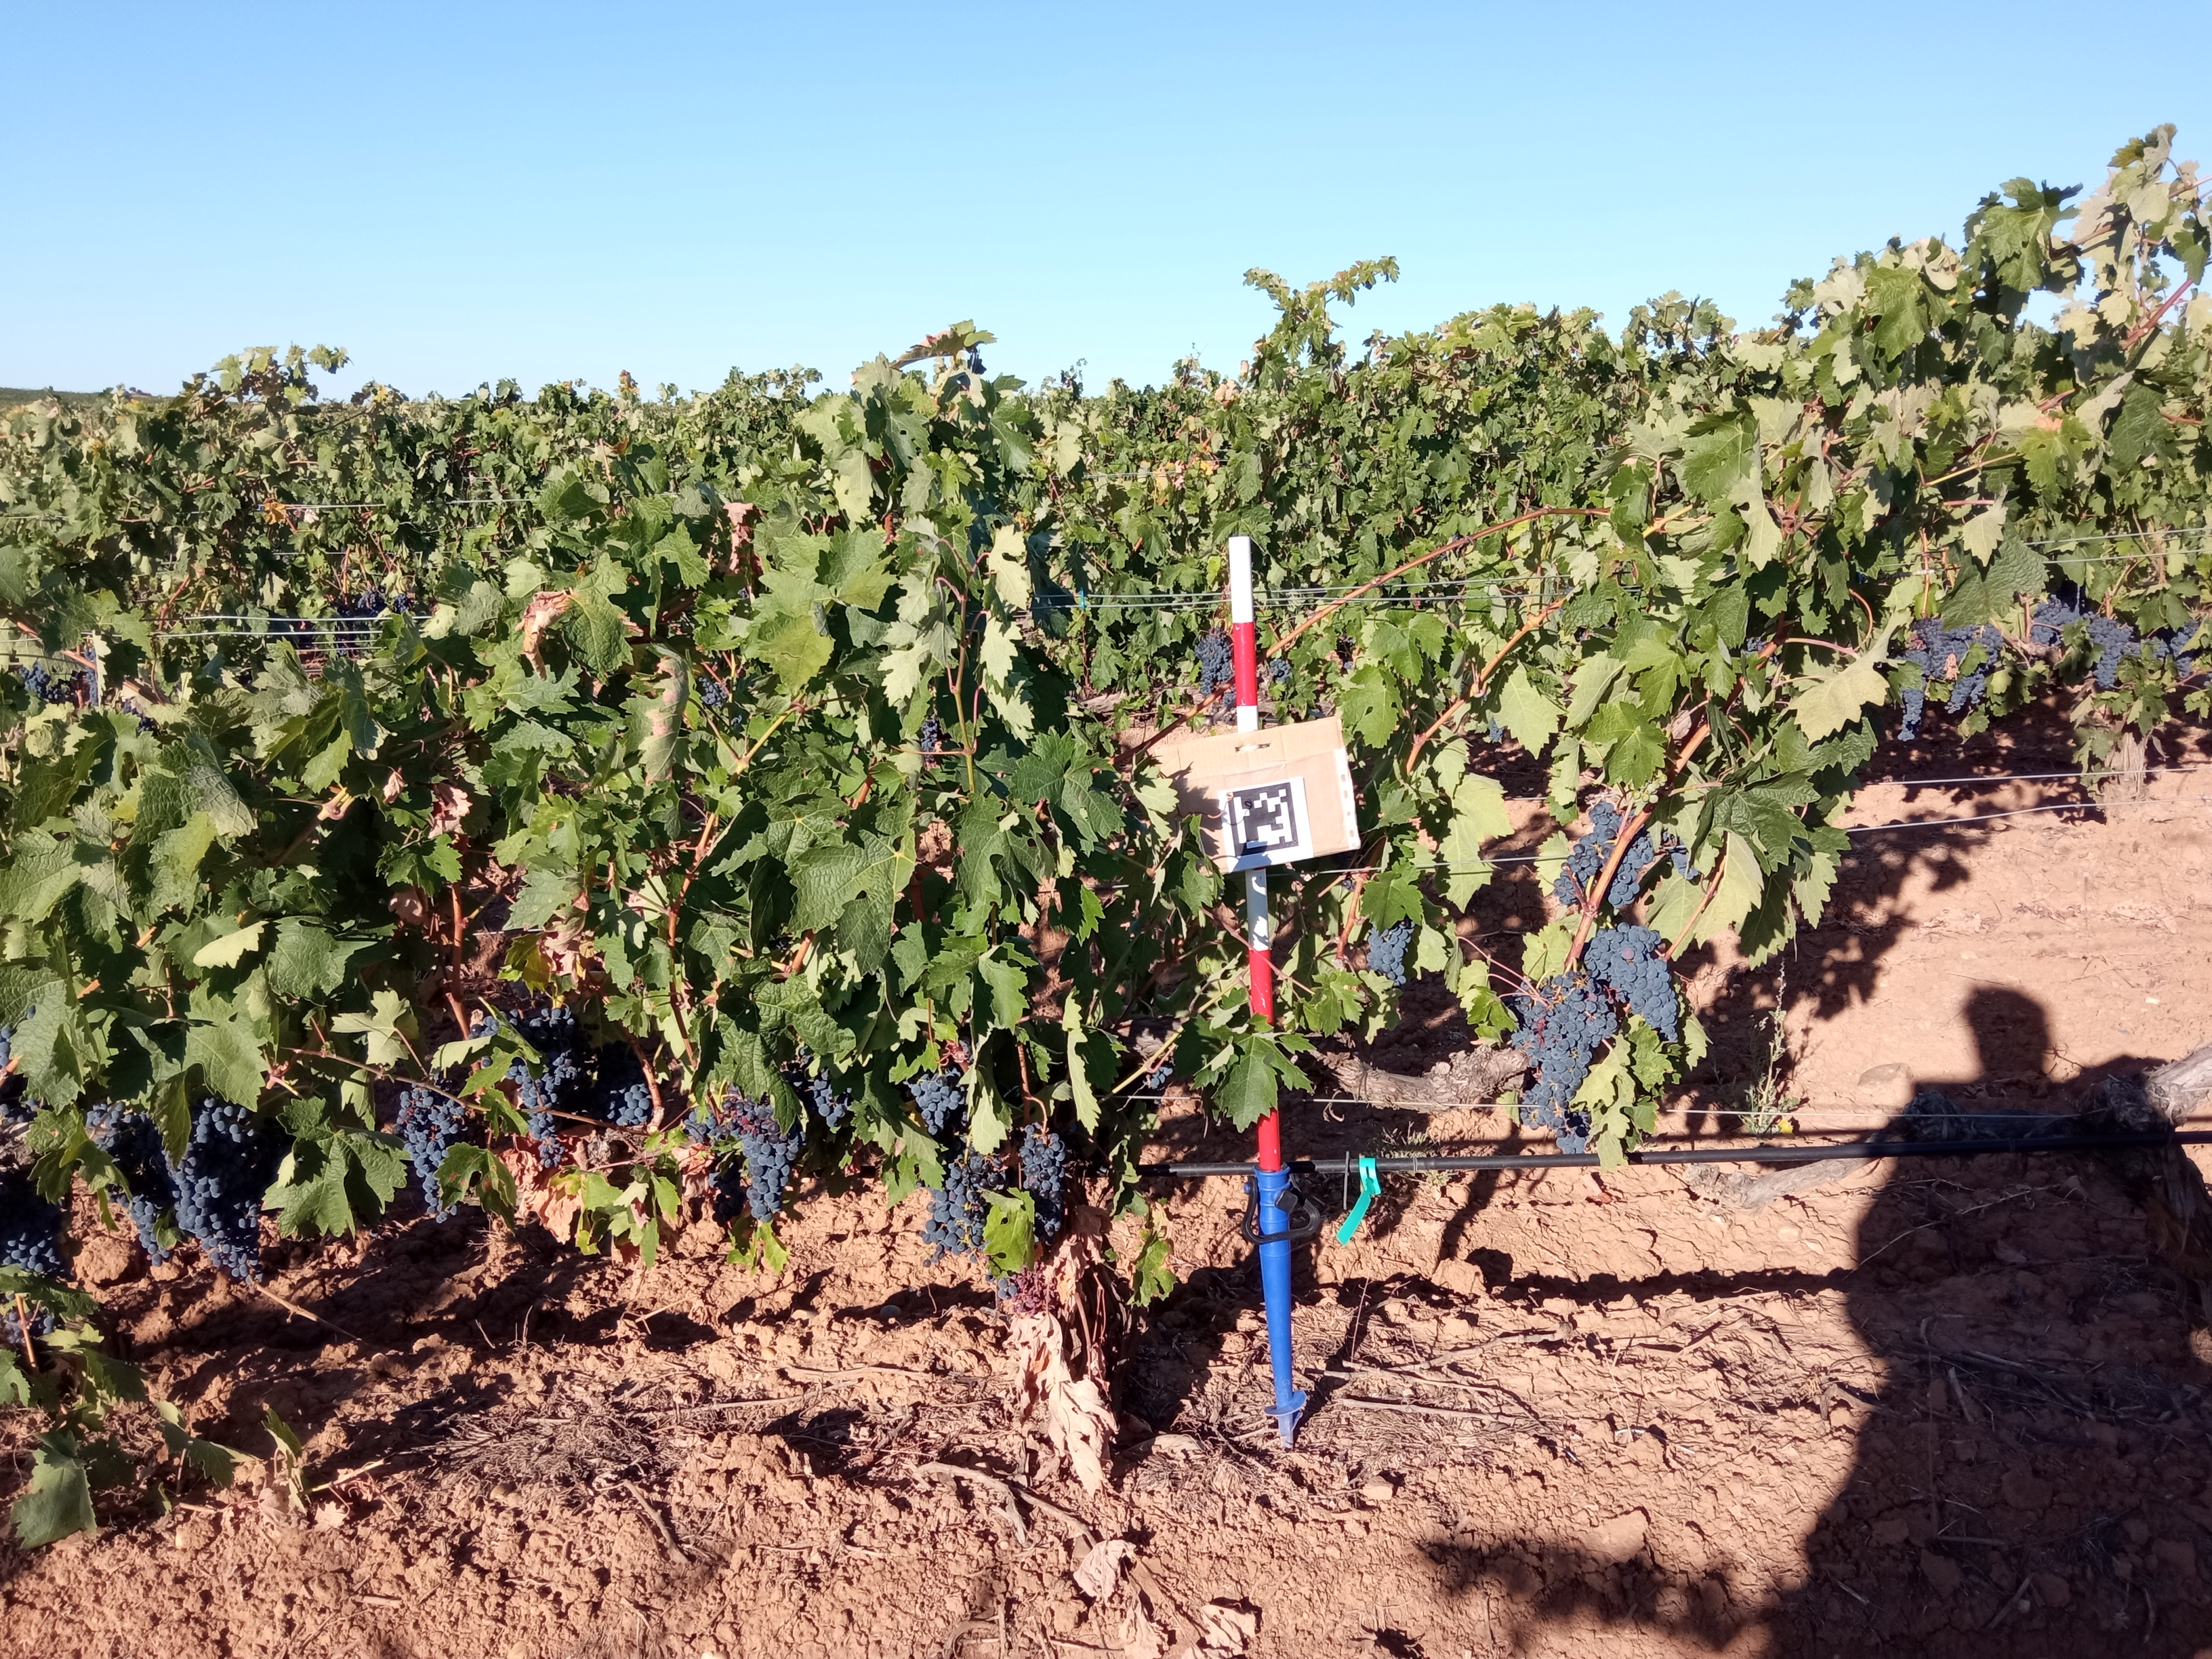grapes: (1496, 972, 1613, 1154), (172, 1103, 279, 1288), (84, 1107, 171, 1267), (510, 1009, 589, 1168), (1585, 920, 1683, 1039), (394, 1079, 460, 1223), (728, 1096, 803, 1220), (927, 1141, 1001, 1260), (1555, 802, 1620, 906), (1015, 1126, 1071, 1244), (0, 1169, 61, 1272), (590, 1042, 650, 1127), (792, 1049, 850, 1127), (907, 1065, 967, 1140), (1366, 917, 1416, 988), (1611, 831, 1651, 908), (707, 1162, 737, 1225), (0, 1310, 56, 1342), (0, 1096, 40, 1129), (1670, 845, 1703, 882), (683, 1107, 719, 1136), (1148, 1061, 1177, 1091), (986, 1274, 1019, 1300), (0, 1023, 14, 1072), (467, 1014, 498, 1033)
